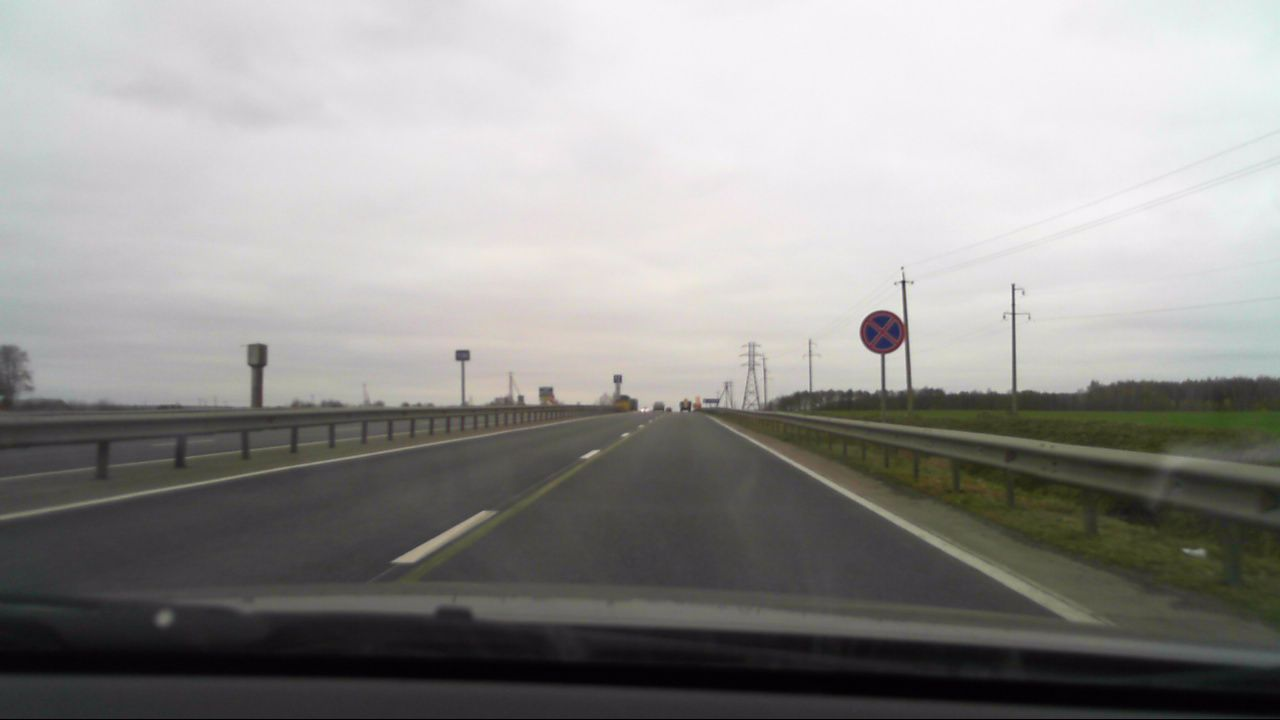No Parking: (860, 310, 905, 356)
